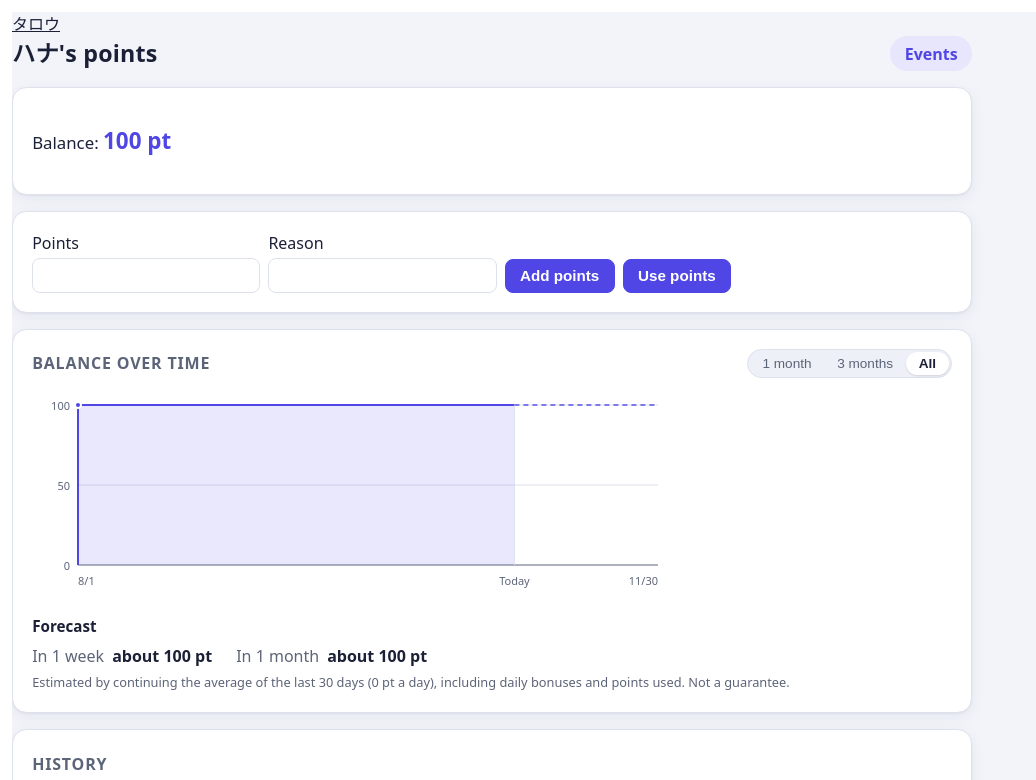
Test case: LedgerPage › 記録したら台帳と家族の両方を読み直す（他の画面の残高が古いまま残らない）
Expected: the text "100 pt" is shown, [103,125,171,156]
Type "50" into the number field labelled "Points". click: (146, 275)
box: [32,258,260,292]
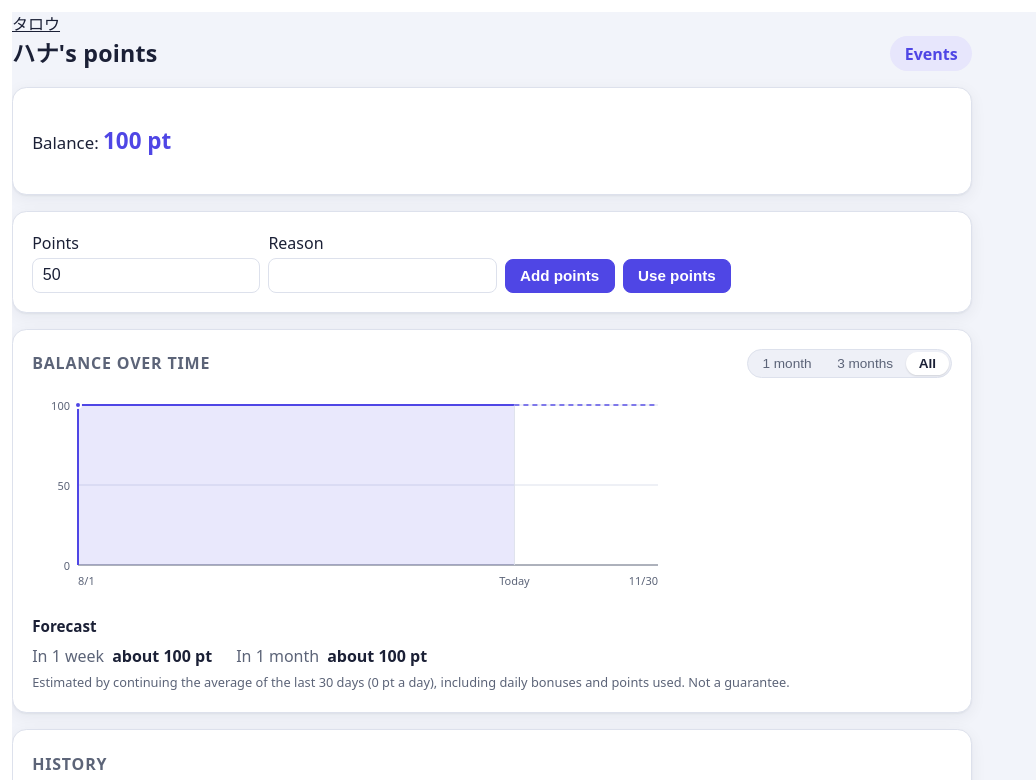
Type "おてつだい" into the field labelled "Reason". click: (382, 275)
box: [268,258,497,292]
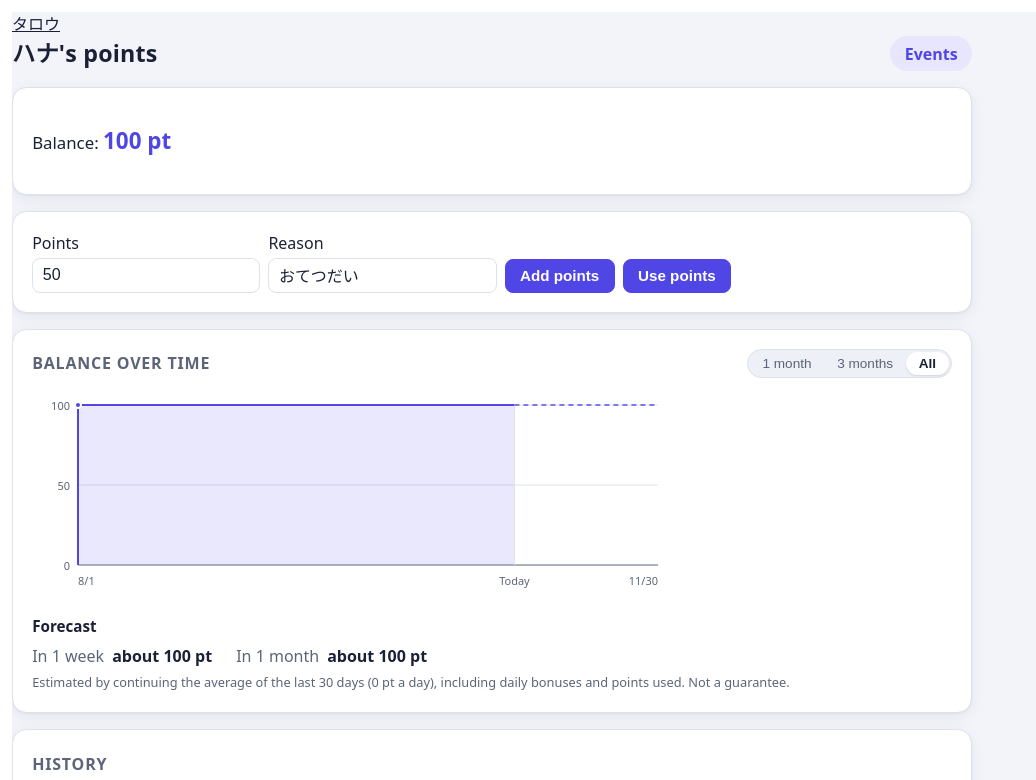
Click the button "Add points". click: (560, 276)
box: [505,259,615,292]
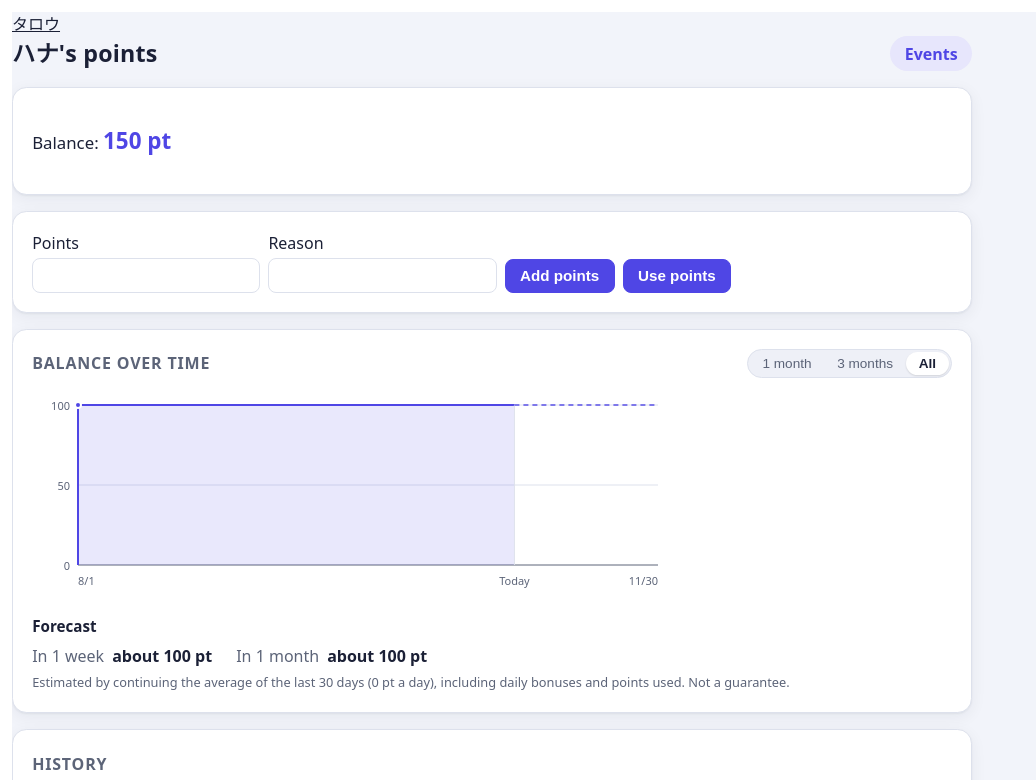
Expected: the text "150 pt" is shown, [103,125,171,156]
